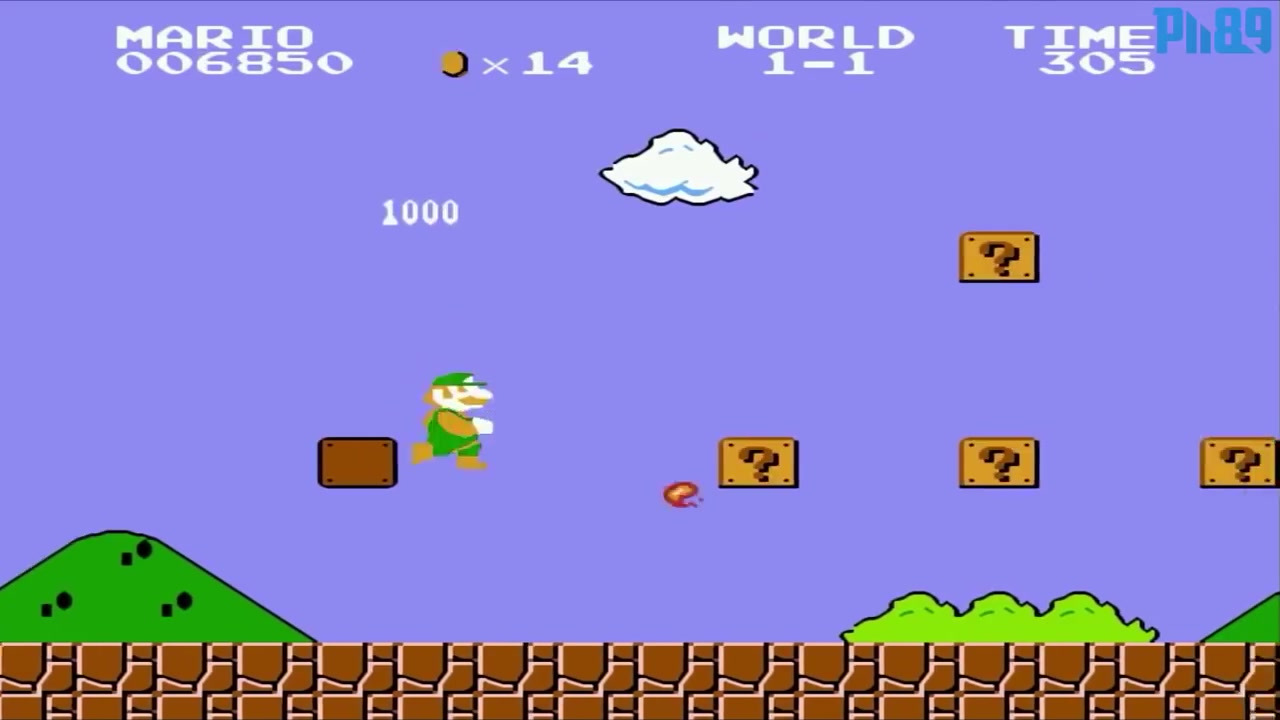mario: (401, 358, 505, 475)
